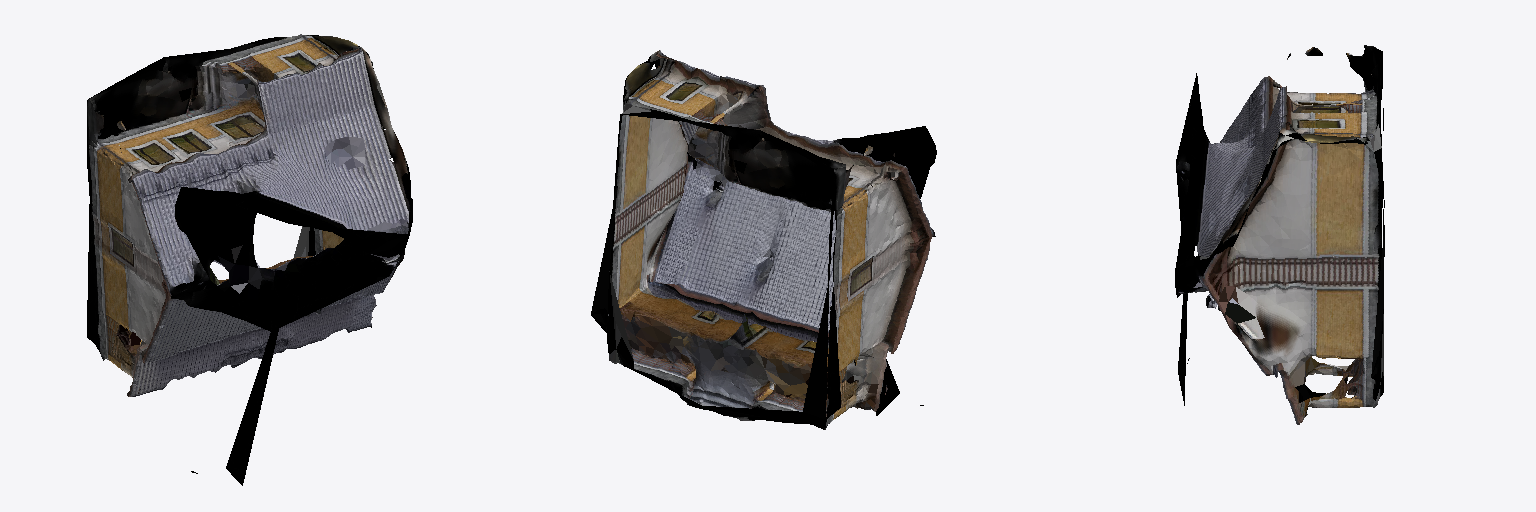
The picture shows the model from 3 angles: view 1: azimuth 30°, elevation 25°; view 2: azimuth 150°, elevation 25°; view 3: azimuth 270°, elevation 25°; orthographic projection.
Visible parts, largest first — view 1: Group_Global; view 2: Group_Global; view 3: Group_Global.
Boxes of the visible parts, <box> form: Group_Global: <box>87,34,412,485</box>; Group_Global: <box>591,50,936,429</box>; Group_Global: <box>1175,45,1384,424</box>.
Size of the model in its own units: 11.32 by 14.85 by 7.83.
1 materials, 1 textured.